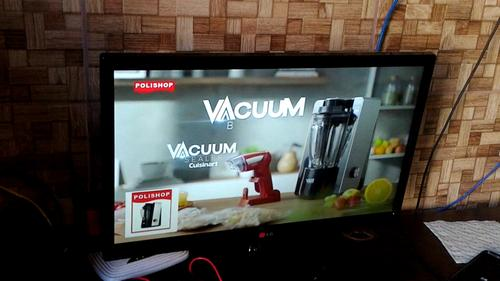Polishop #1: (124, 186, 178, 238)
